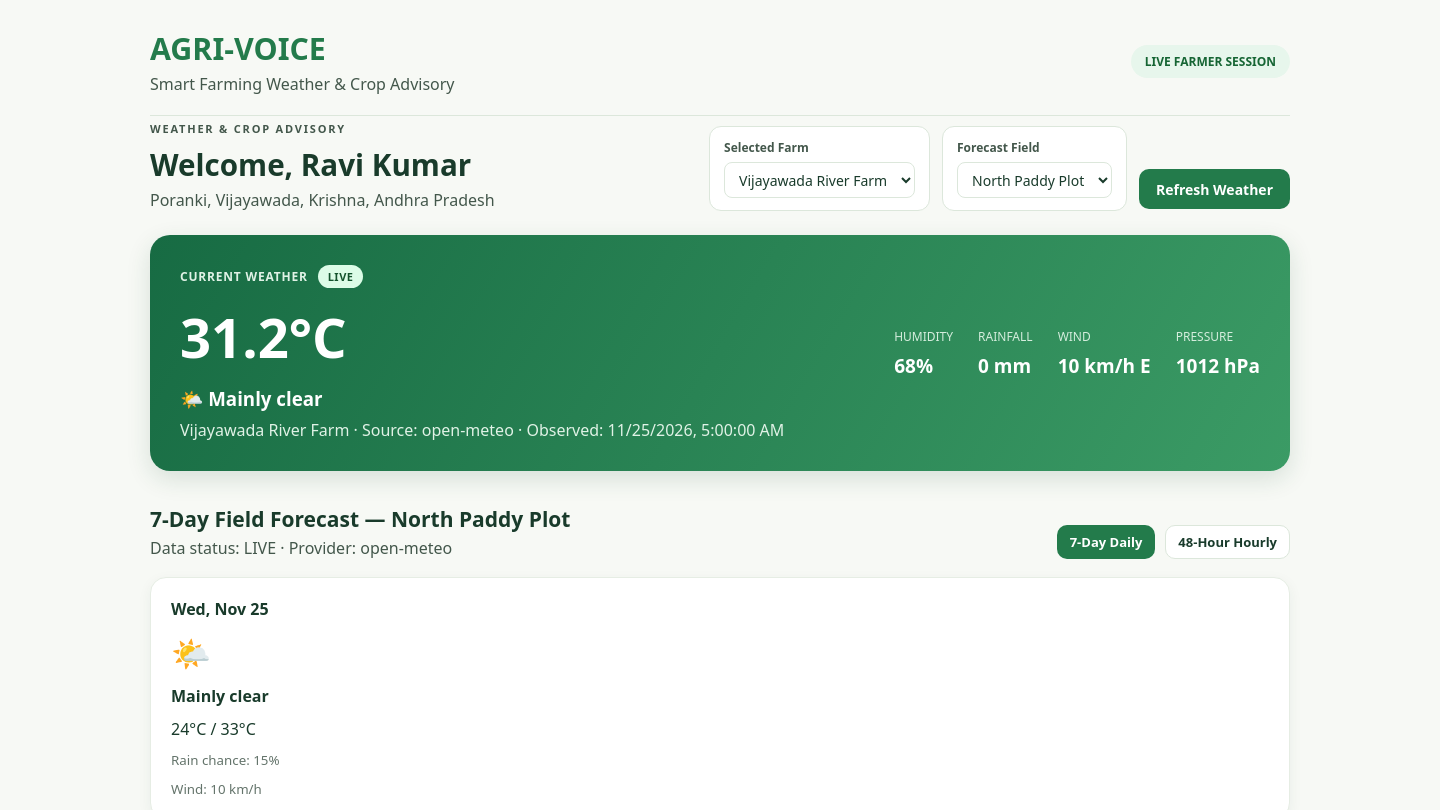
Test: WeatherDashboardContent (Phase 2 Verification) › loads live farm data, switches farms, filters advisories, and refreshes
Expected: the heading "31.2°C" is shown, [180,300,347,374]
Expected: the heading "7-Day Field Forecast — North Paddy Plot" is shown, [150,505,570,533]
Select "Guntur Upland Farm" in the dropdown labelled "Selected Farm" at (820, 180), box [724,162,915,198]
(page scrolled)
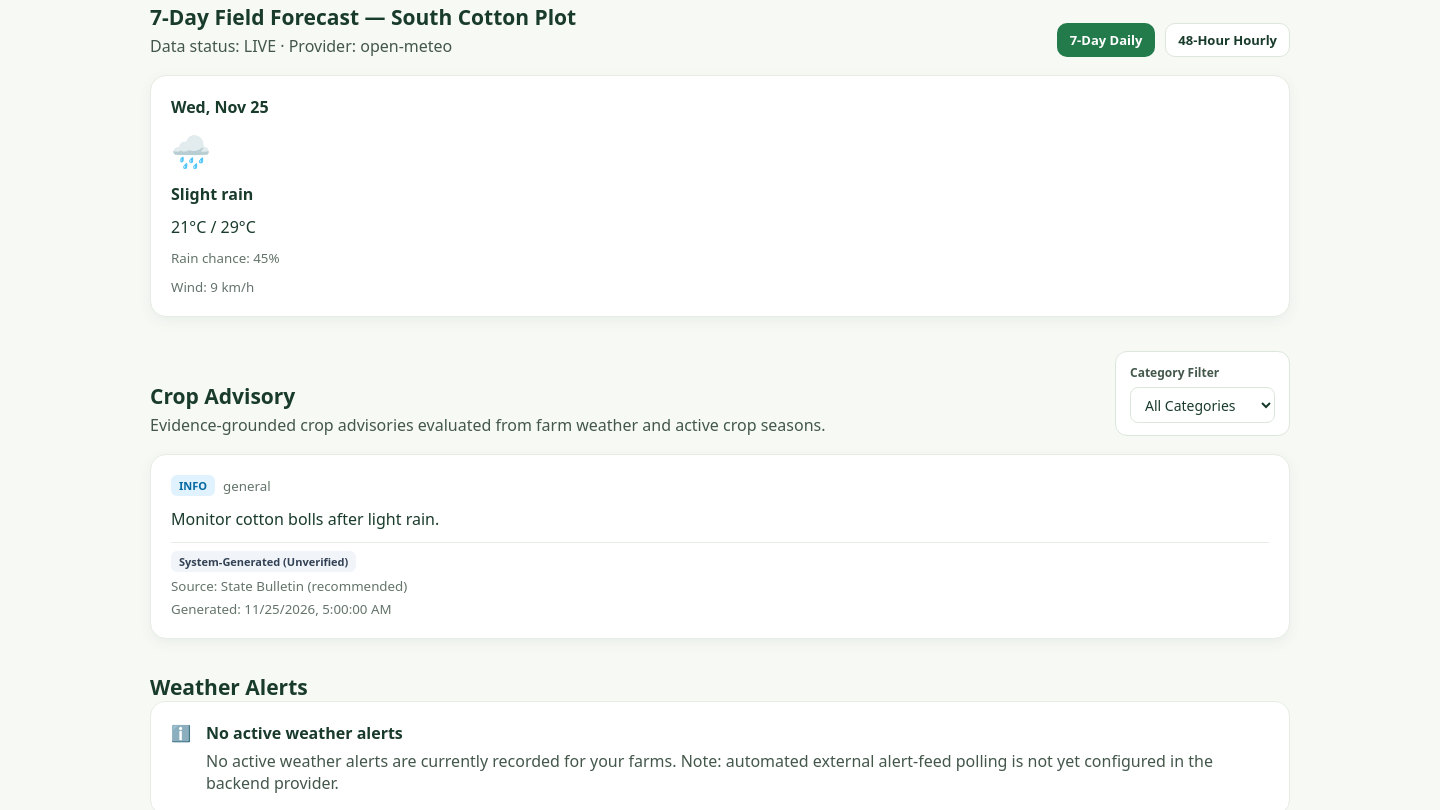
Result: the heading "7-Day Field Forecast — South Cotton Plot" is shown at [150,3,576,31]
Result: the text "Monitor cotton bolls after light rain." is shown at [171,508,439,530]
Result: the text "System-Generated (Unverified)" is shown at [171,551,356,572]
# Filter advisory category
Select "Irrigation" in the dropdown labelled "Category Filter" at (1202, 405), box [1130,387,1275,423]
(page scrolled)
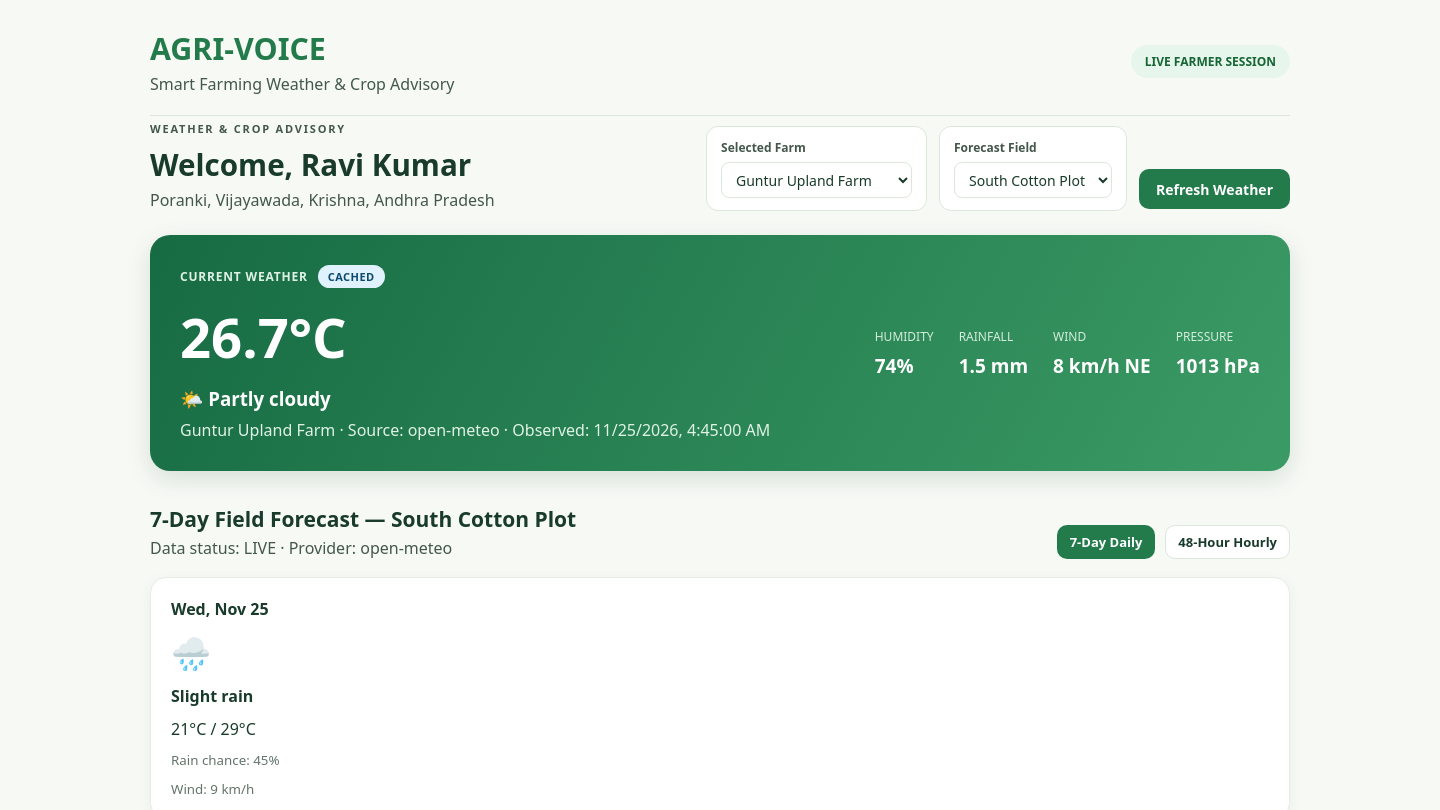
# Click Refresh Weather
Click the button "Refresh Weather".
click(1214, 189)  # box [1139,169,1290,209]
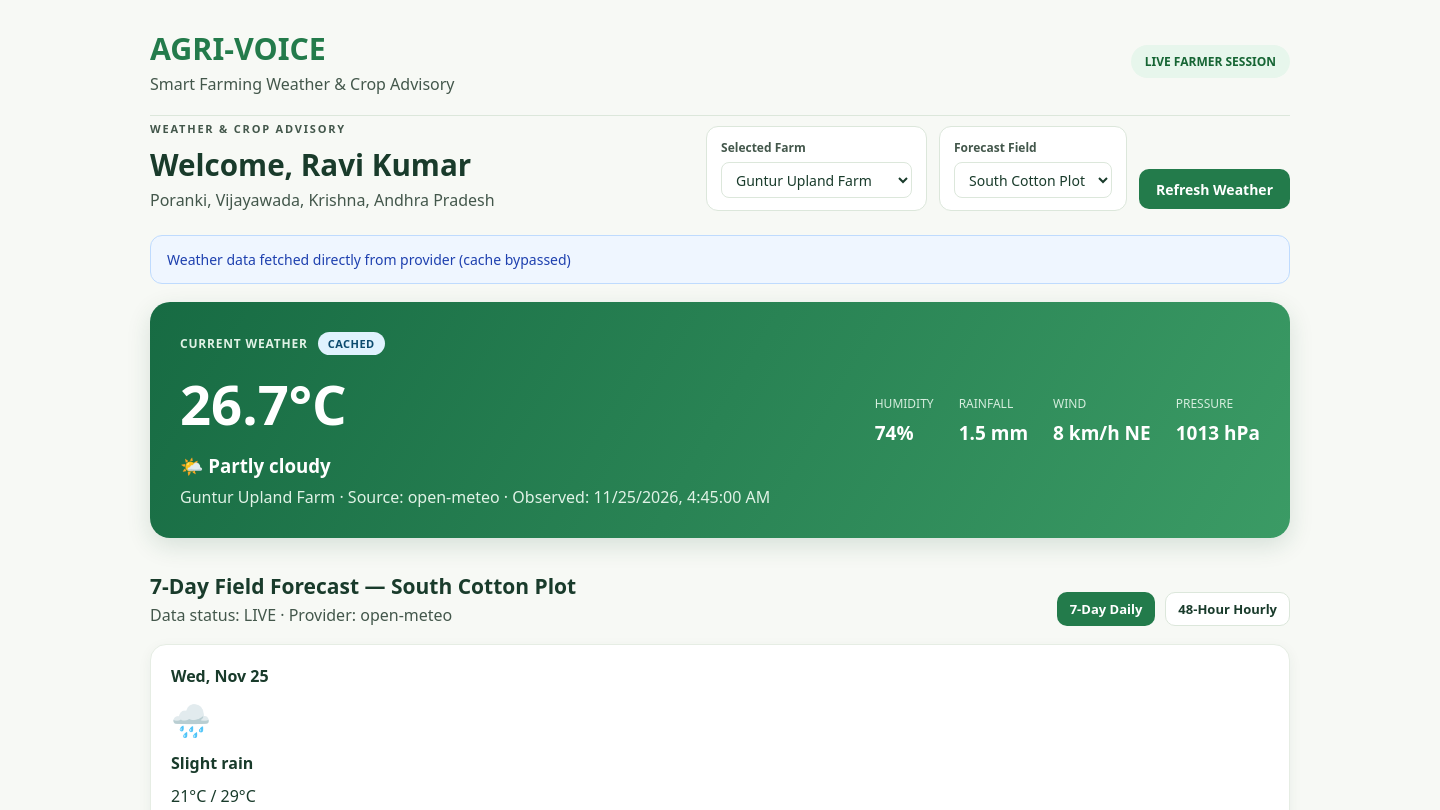
Result: the text "Weather data fetched directly from provider (cache bypassed)" is shown at [150,235,1290,284]
